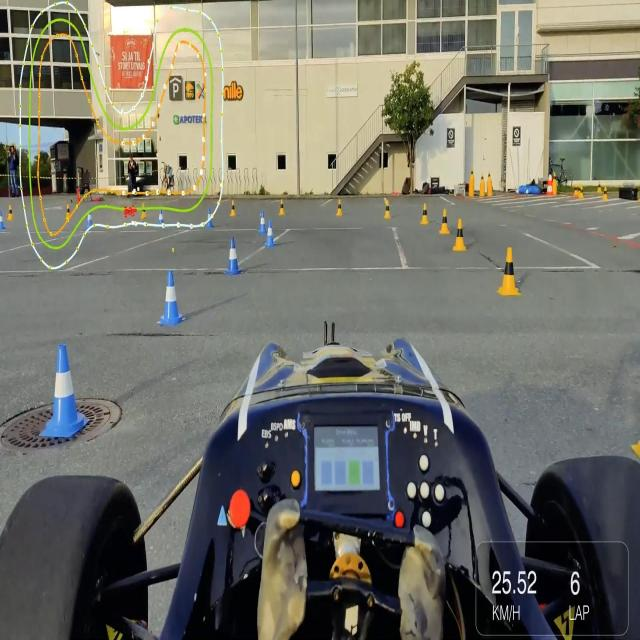blue_cone: (46, 342, 85, 438), (160, 270, 184, 326), (226, 236, 242, 276), (265, 219, 278, 248), (258, 210, 267, 234), (206, 208, 213, 228)
yellow_cone: (499, 246, 518, 295), (454, 218, 467, 251), (440, 209, 451, 234), (384, 200, 392, 219), (422, 205, 429, 225), (279, 197, 286, 216), (141, 202, 147, 220), (8, 203, 14, 221), (337, 198, 343, 216), (231, 200, 236, 216)
